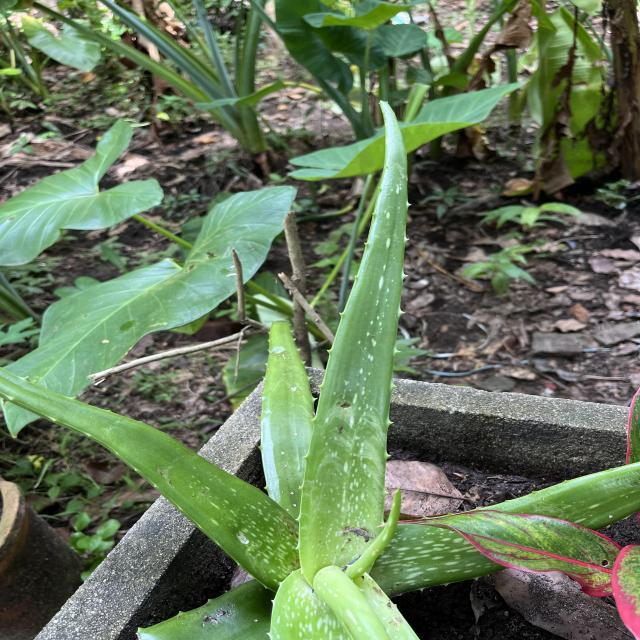Aloe vera: (290, 96, 418, 574)
